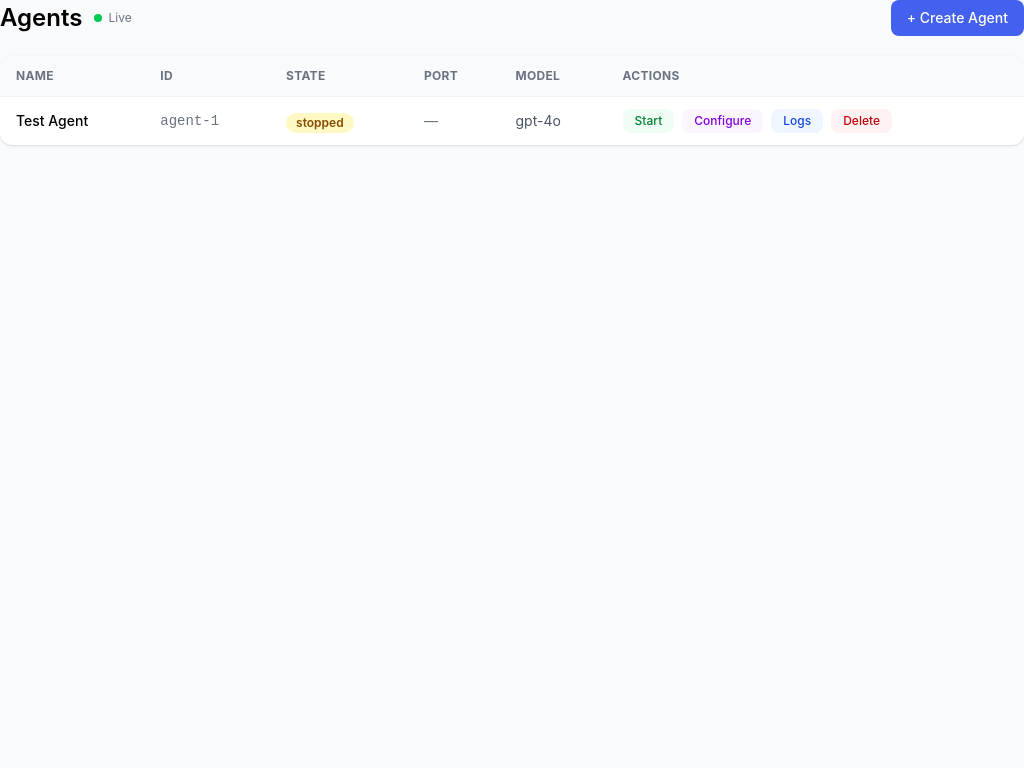
Test: Configure Modal › submits configure form and shows success
Click the button "Configure".
click(723, 121)  # box [682, 109, 763, 133]
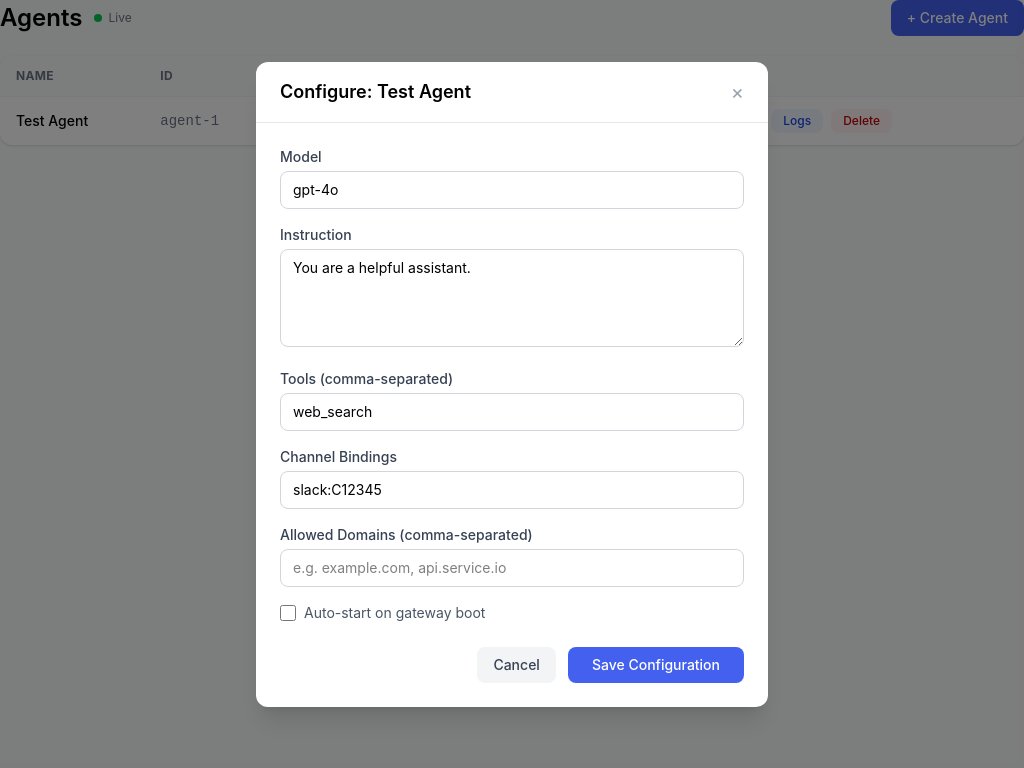
Expected: the heading "Configure: Test Agent" is shown, [280, 78, 471, 106]
Click the button "Save Configuration".
click(656, 664)  # box [568, 646, 744, 682]
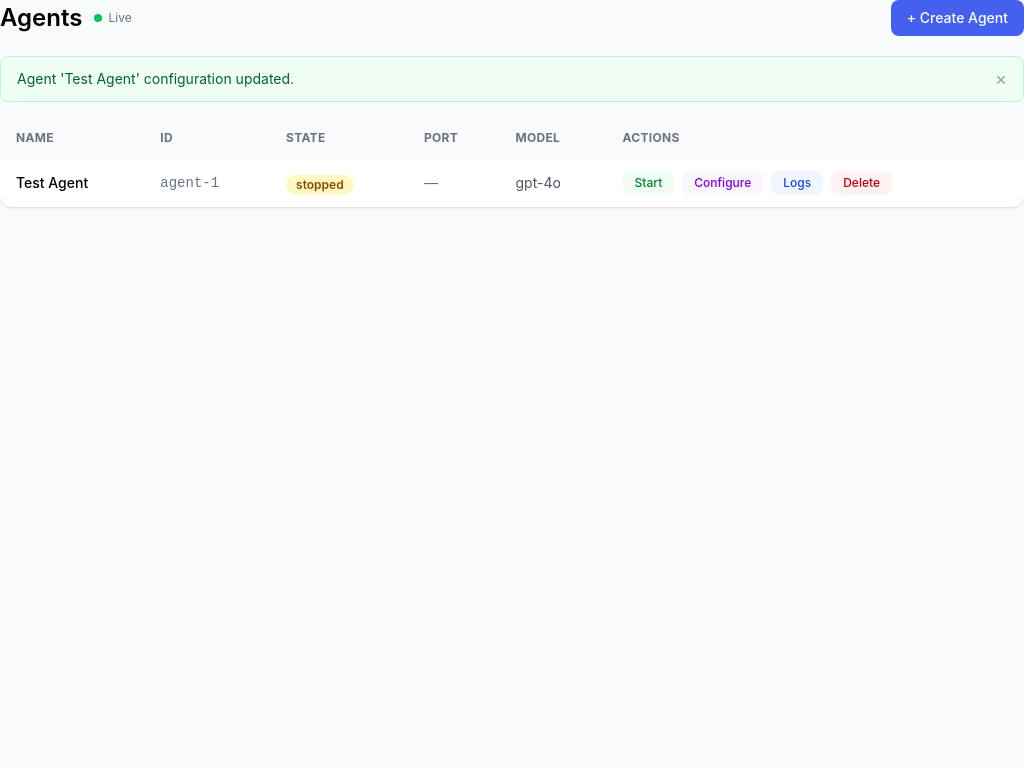
Expected: the text "Agent 'Test Agent' configuration updated." is shown, [17, 69, 294, 89]
